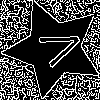V: (29, 23, 86, 72)
